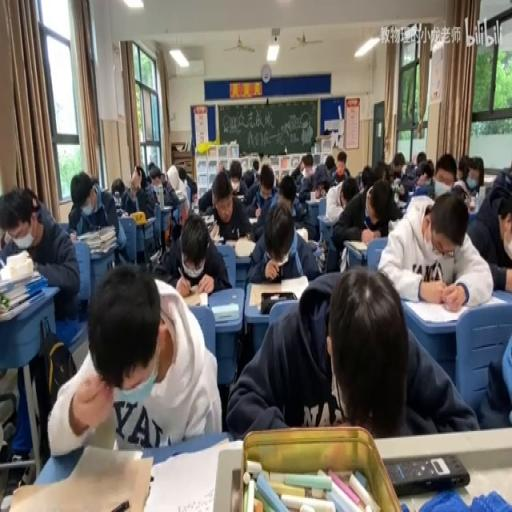calculator: (6, 442, 152, 509), (142, 440, 233, 509), (248, 276, 309, 311), (404, 296, 466, 323), (210, 300, 238, 322), (178, 287, 207, 307), (317, 212, 335, 240), (234, 236, 256, 258), (344, 239, 367, 253), (294, 225, 308, 240), (209, 222, 219, 242), (149, 248, 160, 263), (224, 240, 237, 252), (403, 189, 415, 201), (190, 200, 200, 214), (482, 174, 496, 184), (397, 199, 407, 212), (307, 192, 320, 202), (142, 216, 156, 225), (174, 189, 185, 199), (202, 213, 214, 222), (159, 203, 171, 212), (248, 216, 258, 225), (69, 230, 78, 240), (231, 192, 243, 199)
paper: (226, 263, 472, 437), (50, 263, 220, 457), (378, 190, 494, 308), (0, 182, 82, 321), (246, 196, 322, 284), (157, 209, 227, 294), (68, 169, 125, 273), (334, 174, 401, 253), (126, 161, 174, 256), (473, 323, 512, 427), (197, 162, 238, 215), (298, 154, 334, 202), (451, 154, 482, 209), (238, 158, 262, 205), (410, 158, 436, 199), (434, 153, 456, 185), (179, 165, 197, 201), (276, 174, 295, 208), (491, 168, 511, 199), (331, 151, 348, 185), (390, 151, 404, 179), (373, 160, 389, 184), (146, 162, 162, 186), (341, 182, 357, 206), (110, 176, 125, 199), (360, 164, 374, 188), (259, 170, 273, 194), (144, 180, 158, 204), (166, 170, 180, 194), (259, 154, 272, 174), (179, 195, 189, 220), (290, 165, 300, 183), (325, 154, 334, 172), (135, 171, 144, 189), (404, 161, 414, 176), (416, 150, 426, 164), (396, 182, 405, 195), (160, 170, 166, 188), (217, 161, 224, 175), (252, 158, 259, 171)
person: (386, 452, 470, 494), (245, 230, 254, 240)
